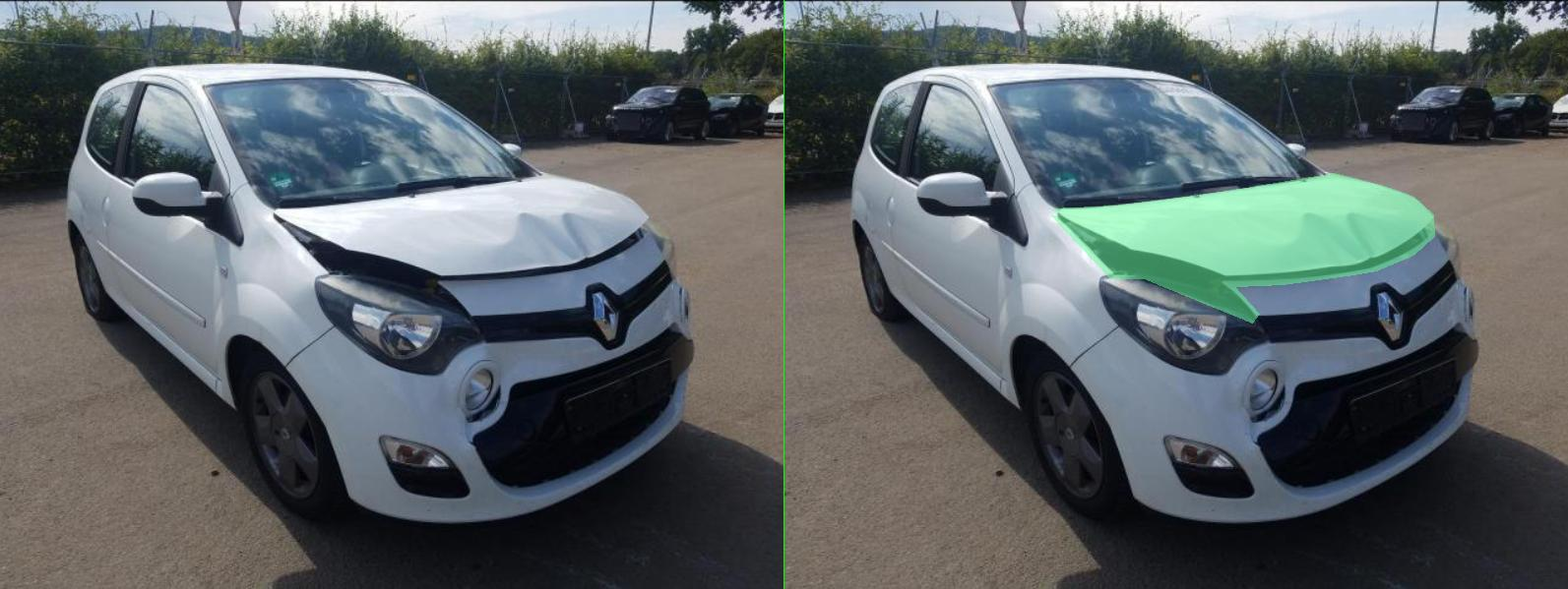Broken part: (536, 173, 1300, 286), (534, 214, 949, 323)
Dent: (585, 210, 1255, 276)
